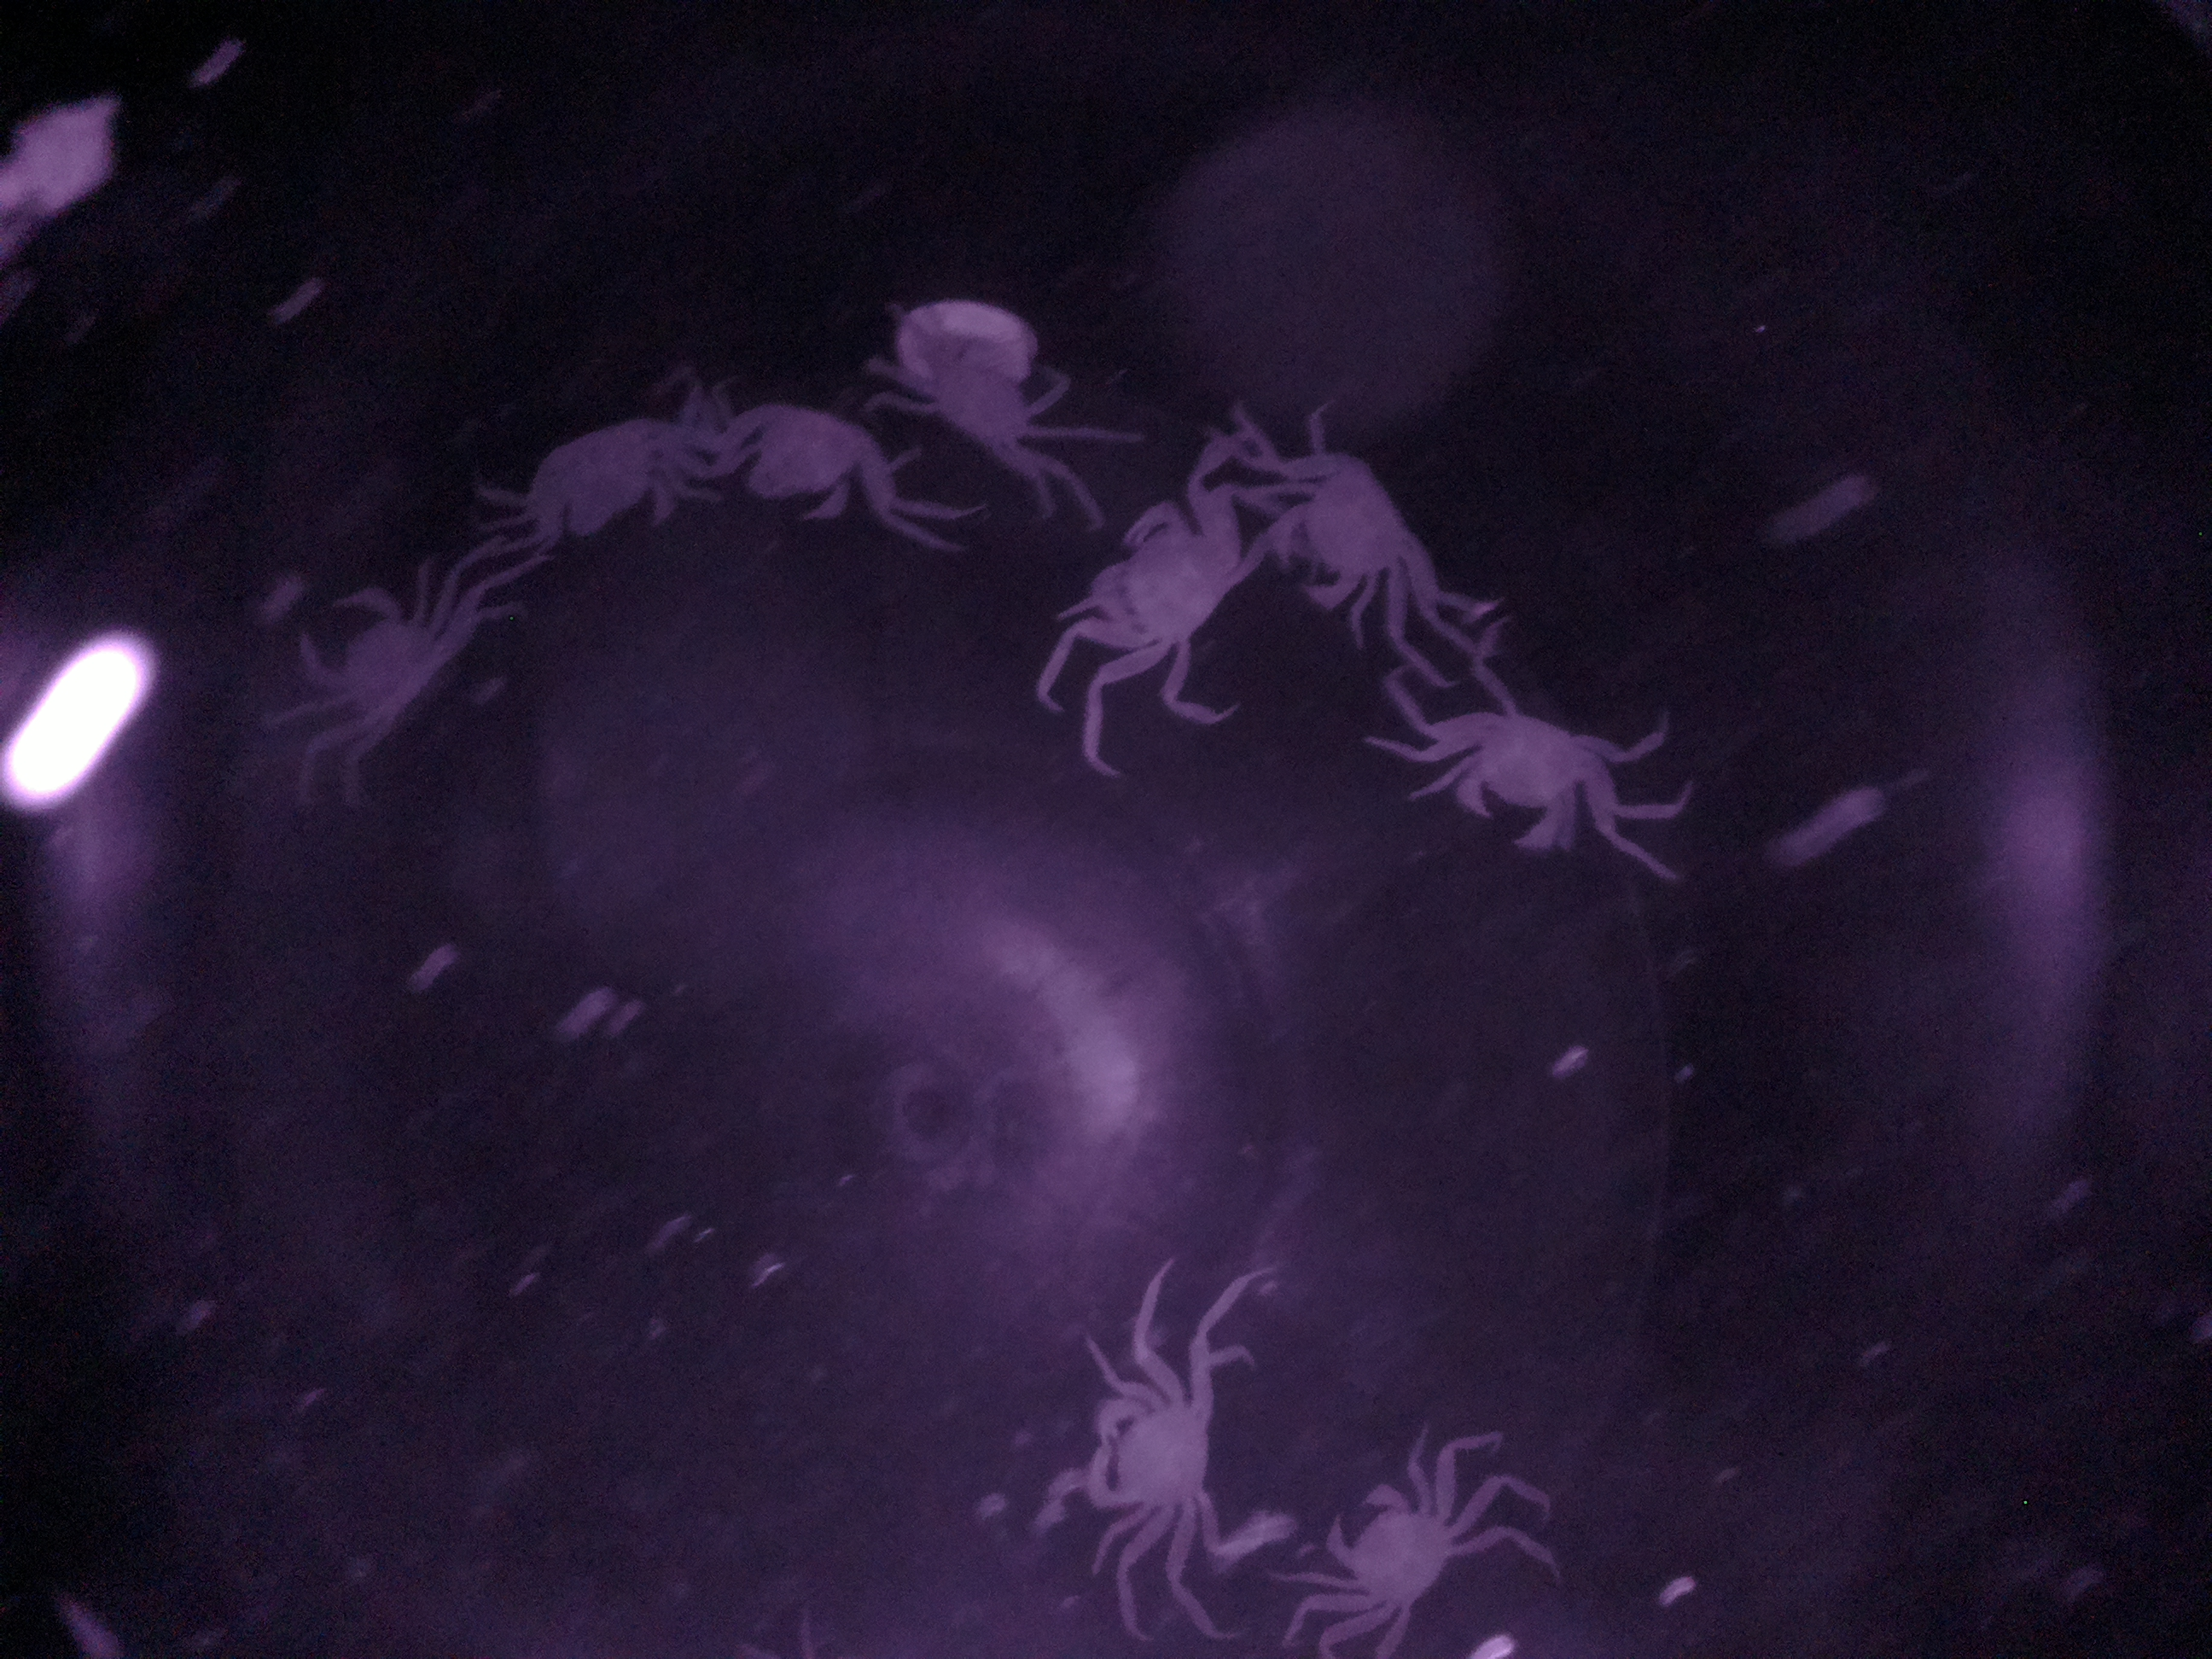Crab: (1413, 673, 1635, 873), (1258, 413, 1465, 627), (1061, 1303, 1226, 1567), (268, 577, 489, 767), (1059, 495, 1282, 681), (1299, 1438, 1491, 1643)
